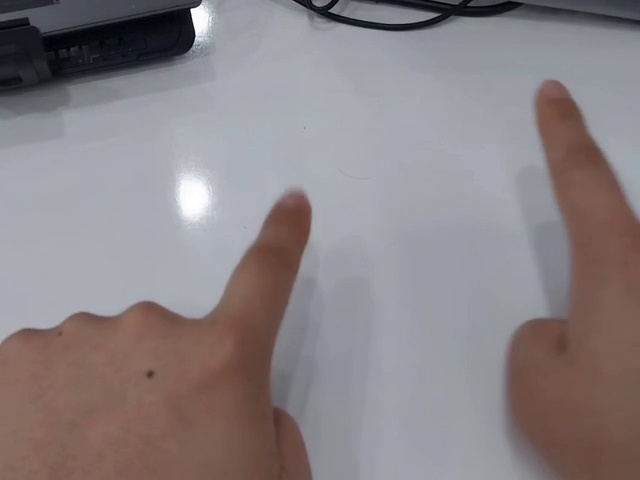fingers: (532, 78, 585, 132), (261, 186, 312, 239)
